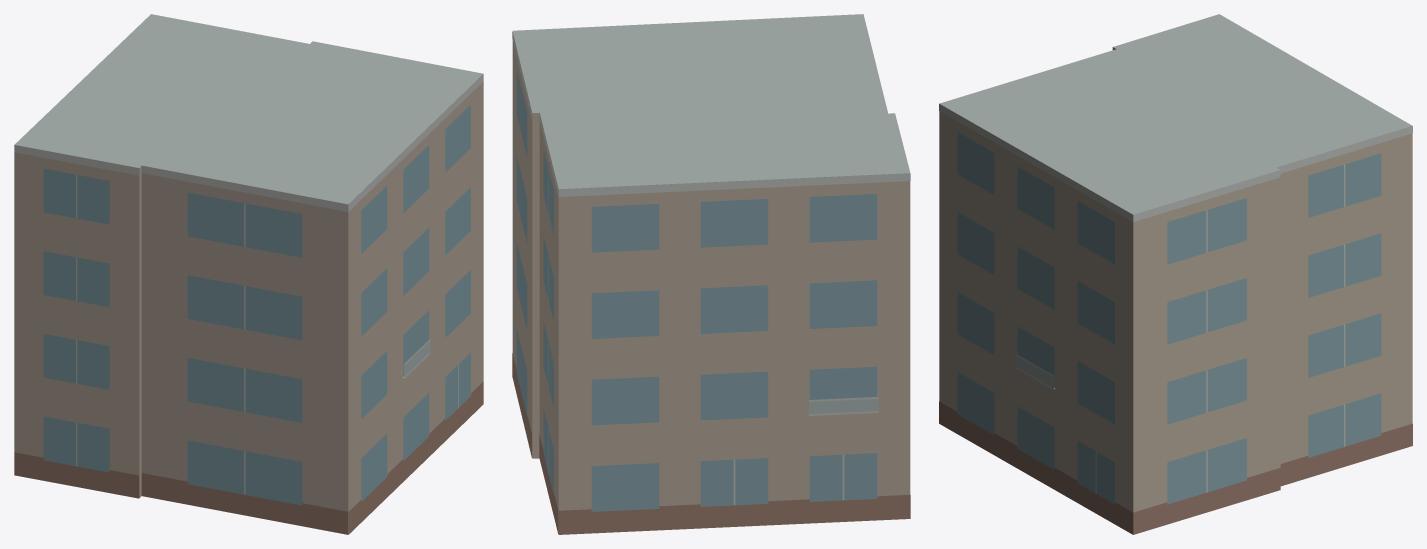
File: survey-upis-32853028.glb
3 views of the same model, side by side, from view 1: azimuth 30°, elevation 25°; view 2: azimuth 150°, elevation 25°; view 3: azimuth 270°, elevation 25° (orthographic). The views are drawn at different scales.
Parts seen in each view (by area): view 1: survey-upis-32853028.tmp; view 2: survey-upis-32853028.tmp; view 3: survey-upis-32853028.tmp.
Boxes of the visible parts, bbox=[...] form: survey-upis-32853028.tmp: bbox=[14, 14, 483, 534]; survey-upis-32853028.tmp: bbox=[512, 14, 910, 534]; survey-upis-32853028.tmp: bbox=[939, 14, 1412, 534].
Size of the model in its own units: 14.41 by 10.7 by 14.36.
